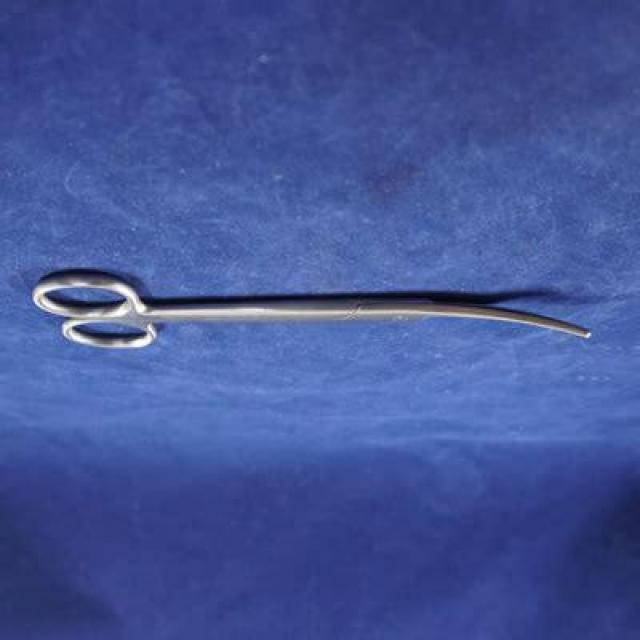Mayo_metz: (28, 267, 598, 357)
